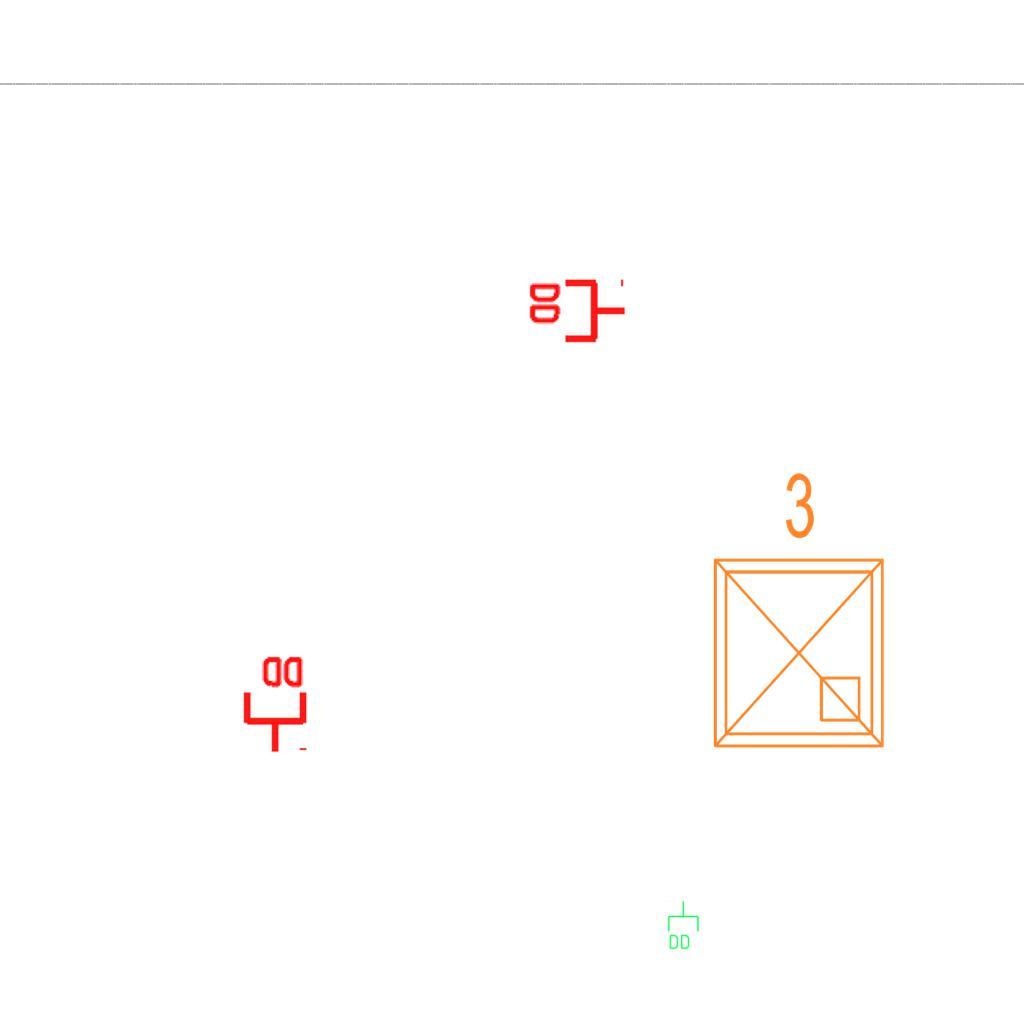Datenanschluss_zweifach: (525, 278, 628, 347), (239, 652, 308, 755), (666, 900, 700, 951)
Einbaudownlights_LED_Konferenzraeume: (691, 462, 899, 762)
